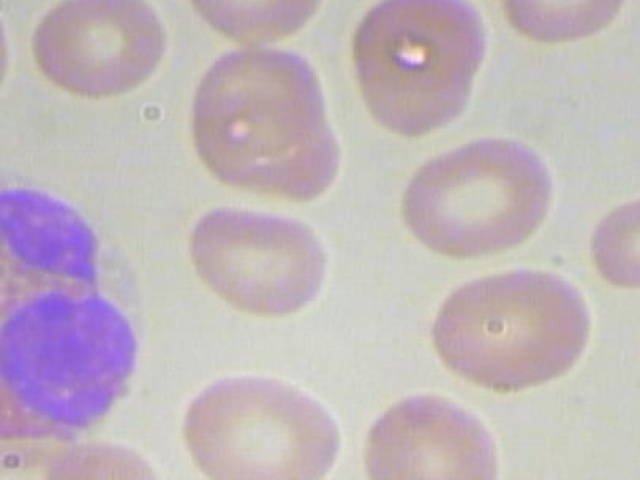RBC: (387, 127, 561, 273), (419, 260, 595, 396), (337, 0, 498, 142), (171, 359, 345, 480), (177, 198, 336, 323), (19, 0, 177, 109), (351, 382, 525, 480), (175, 0, 340, 52), (490, 0, 631, 53), (585, 183, 640, 293), (0, 0, 27, 116), (635, 274, 640, 405)
WBC: (0, 154, 170, 456)
